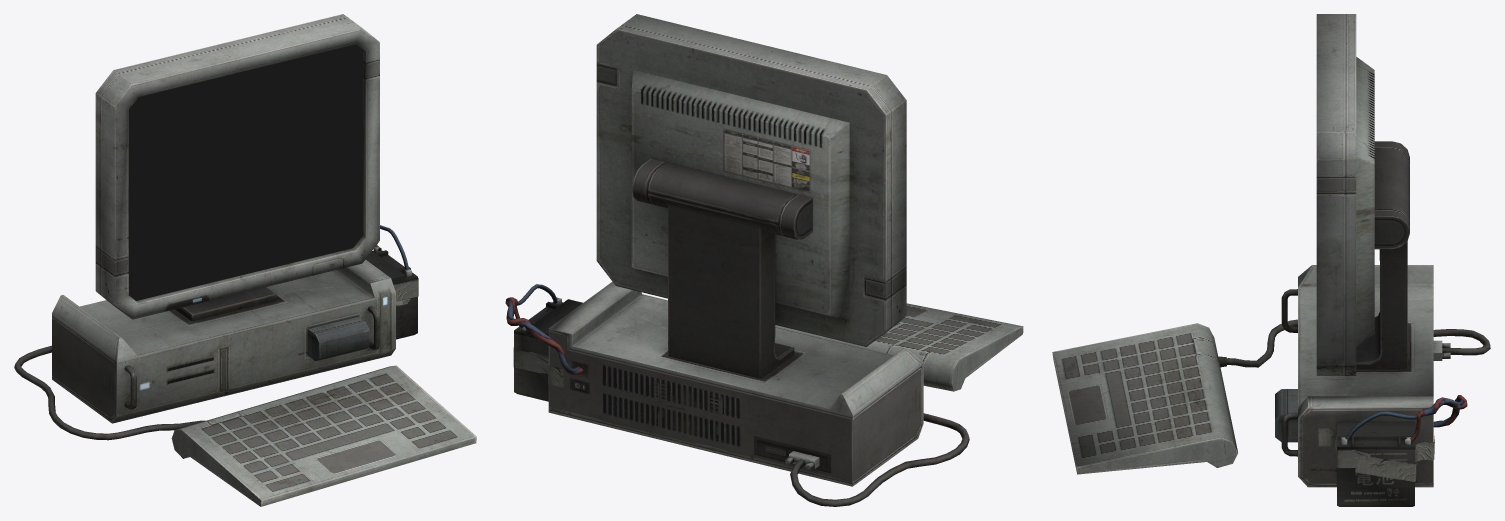
The model's file is computer_laptop_modded_GUI.dae.
The picture shows the model from 3 angles, left to right: view 1: azimuth 30°, elevation 25°; view 2: azimuth 150°, elevation 25°; view 3: azimuth 270°, elevation 25°; orthographic projection. The views are drawn at different scales.
Visible parts, largest first — view 1: computer_laptop_modded, computer_laptop_GUI; view 2: computer_laptop_modded; view 3: computer_laptop_modded.
Boxes of the visible parts, x1=… form: computer_laptop_modded: x1=14, y1=14, x2=476, y2=506; computer_laptop_GUI: x1=129, y1=44, x2=362, y2=300; computer_laptop_modded: x1=505, y1=14, x2=1023, y2=506; computer_laptop_modded: x1=1052, y1=14, x2=1490, y2=506.
Size of the model in its own units: 0.6894 by 0.5948 by 0.6861.
